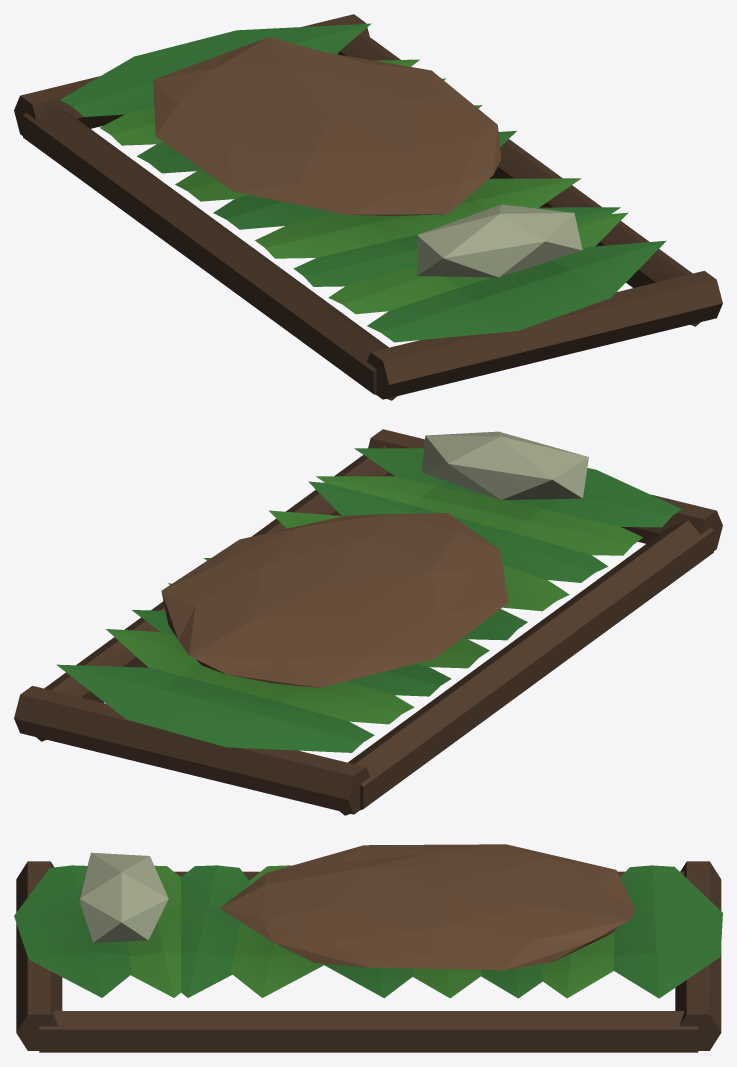
The model's file is Bed.fbx.
The picture shows the model from 3 angles, top to bottom: view 1: azimuth 30°, elevation 25°; view 2: azimuth 150°, elevation 25°; view 3: azimuth 270°, elevation 25°; orthographic projection. The views are drawn at different scales.
Visible parts, largest first — view 1: Bed; view 2: Bed; view 3: Bed.
Boxes of the visible parts, x1,y1,x2,y2 form: Bed: (14,14,722,400); Bed: (14,429,722,815); Bed: (14,844,722,1052).
Bounding box in the file's own units: 1.12 × 0.371 × 2.15.
